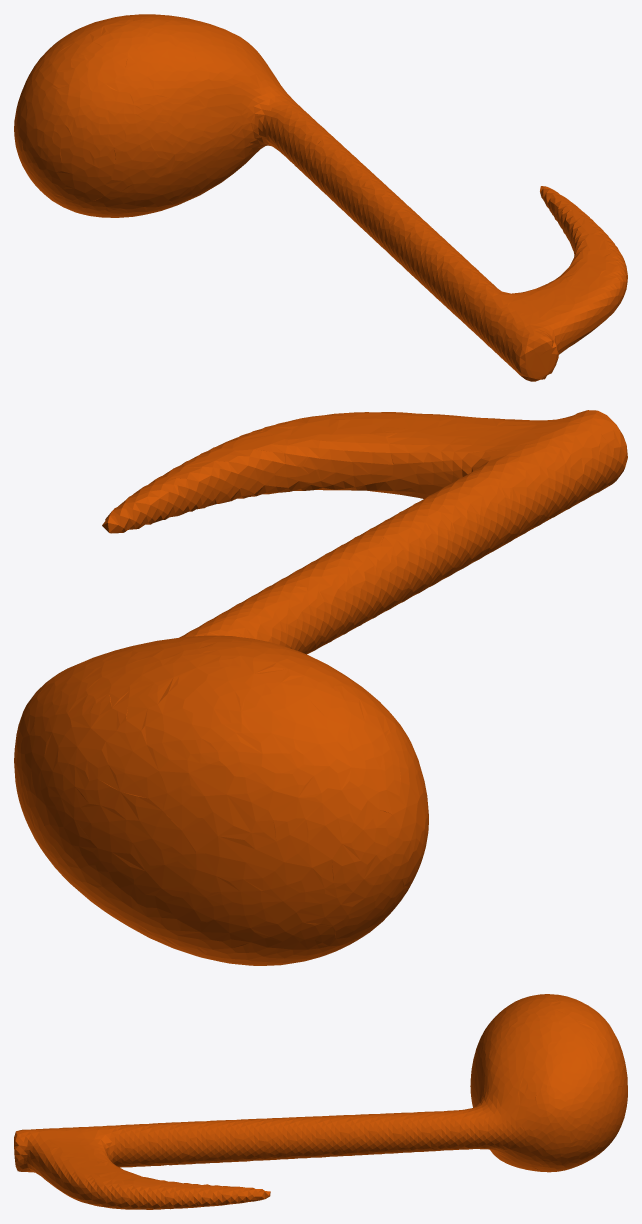
The model's file is orangenote.obj.
3 renders of one model, top to bottom at view 1: azimuth 30°, elevation 25°; view 2: azimuth 150°, elevation 25°; view 3: azimuth 270°, elevation 25°, orthographic. The views are drawn at different scales.
Visible parts, largest first — view 1: Layer_1; view 2: Layer_1; view 3: Layer_1.
Part boxes in pixels (x1,y1,x2,y2): Layer_1: [14, 14, 627, 381]; Layer_1: [14, 410, 627, 965]; Layer_1: [14, 994, 627, 1209].
Size of the model in its own units: 0.1124 by 0.054 by 0.1959.
